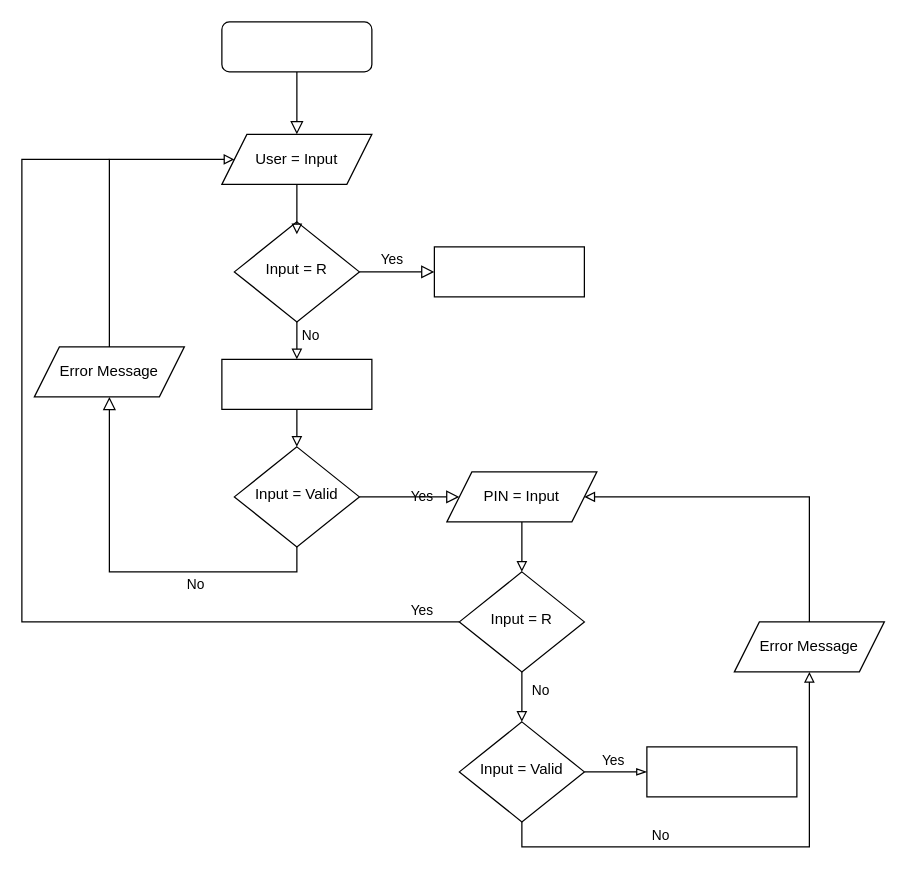
Image size: 906x879. Some labels were removed from this diagram. The centre of each missing label's shape, as x and y in pixels:
"Display AdminView" belongs at point (721, 771).
"Display LandingScreen" belongs at point (508, 271).
"Start" belongs at point (296, 46).
"Validate Input" belongs at point (296, 383).
